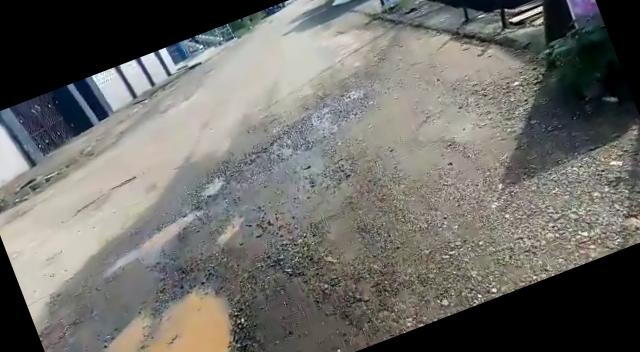pothole: (73, 274, 262, 352)
